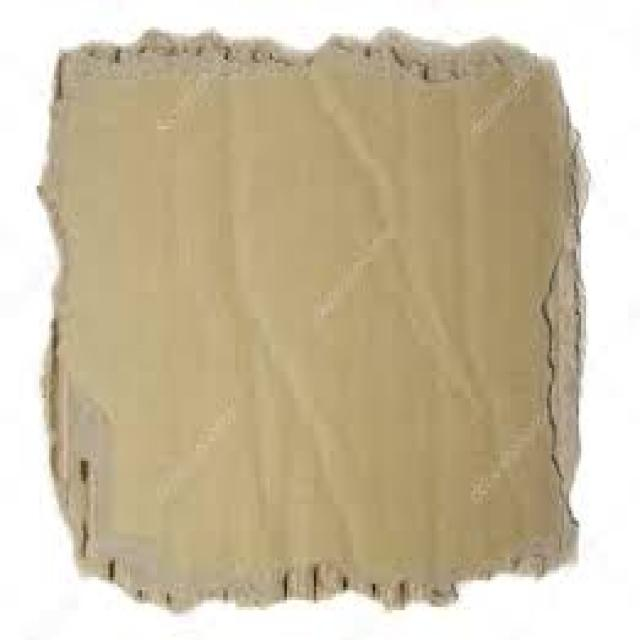cardboard: (35, 26, 589, 607)
